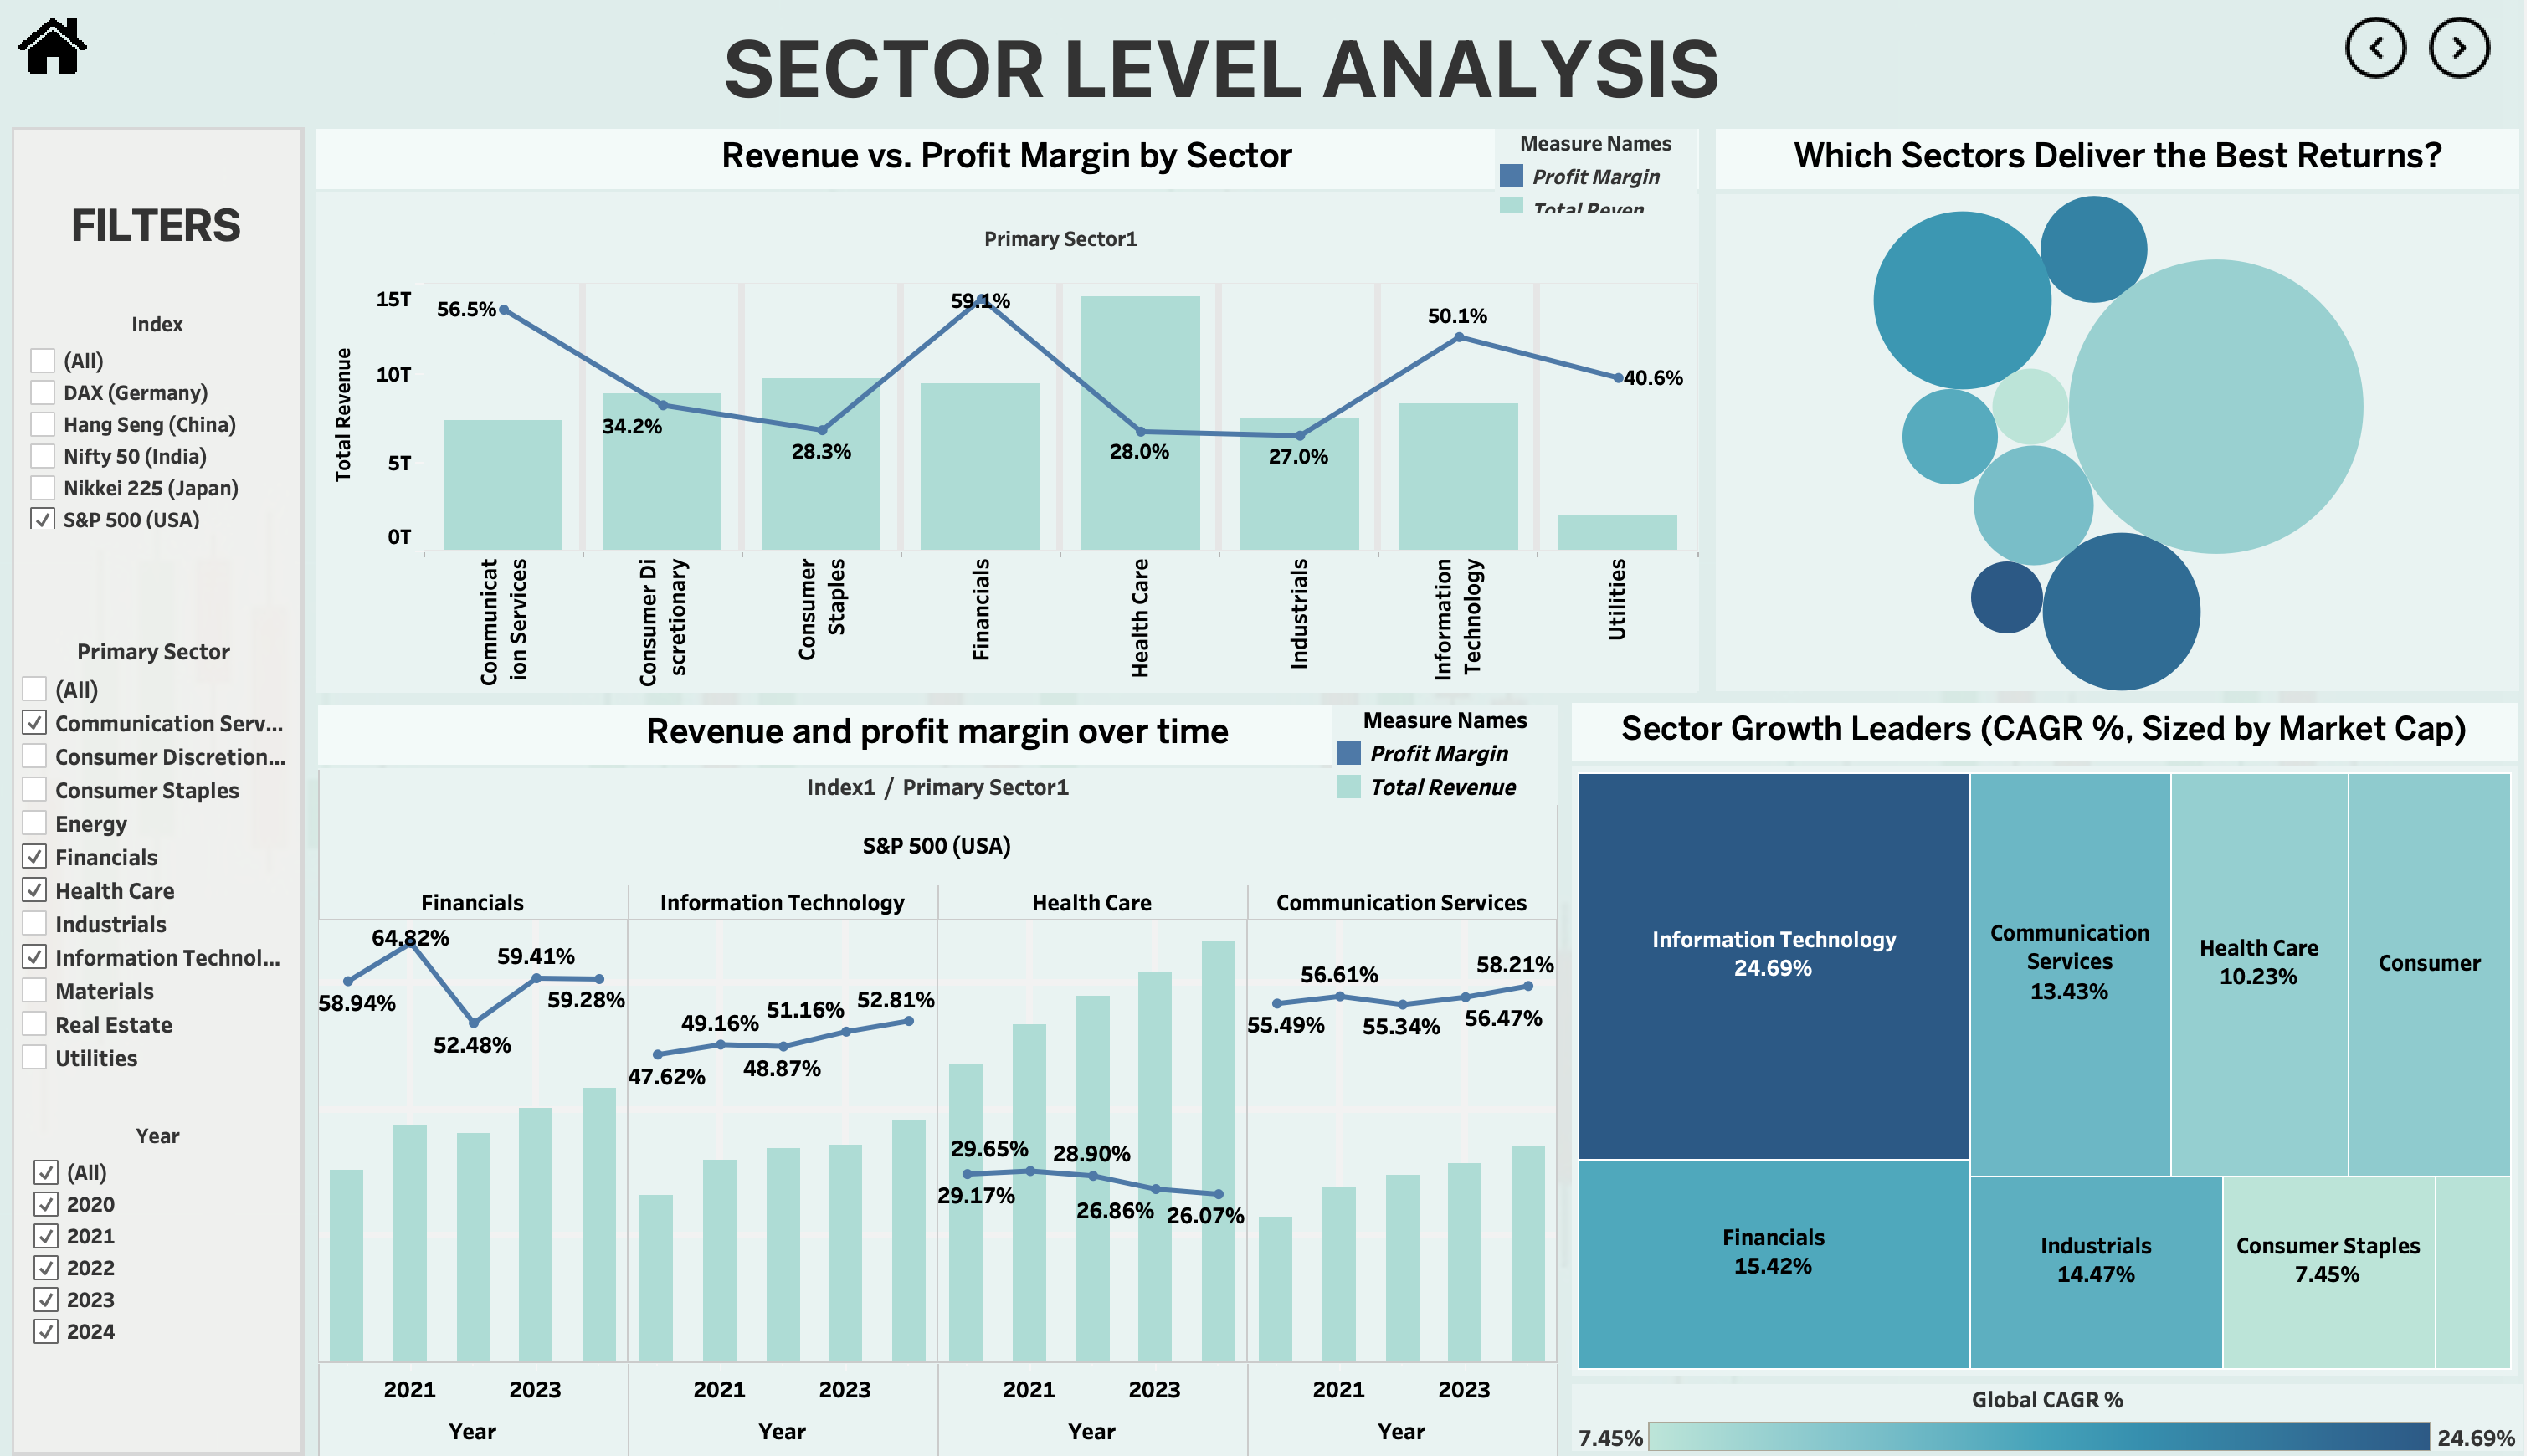

The dashboard page shown, as its layout file describes it:
{"tool":"tableau","page":{"name":"Sector Level Analysis","canvas":[1000,1000],"units":"permille","ordinal":4},"visuals":[{"type":"dashboard-object","box":[3.9,7.5,33.4,46.8]},{"type":"dashboard-object","box":[925.4,7.5,27.3,48.3]},{"type":"dashboard-object","box":[955.4,9.1,32.9,46.8]},{"type":"worksheet","title":"Sector Info","mark":"Automatic","box":[44.1,11.3,877.9,70.9]},{"type":"worksheet","title":"box (2)","mark":"Automatic","box":[4.6,86.7,116.1,908.8]},{"type":"legend","title":"Revenue vs. Profit Margin by Sector (2020–2024)","param":"[federated.0pgchlx1p5gws61gtvl2m0kqny3y].[:Measure Names]","box":[590.9,87.5,79.8,57.3]},{"type":"worksheet","title":"Revenue vs. Profit Margin by Sector (2020–2024)","mark":"Automatic","rows":["Total Revenue","Calculation_652459001683488768"],"cols":["Primary Sector"],"box":[124.9,88.2,546.6,384.6]},{"type":"worksheet","title":"Which sector deliver the best returns","mark":"Circle","box":[677.7,88.2,317.8,383.9]},{"type":"worksheet","title":"FILTERS","mark":"Automatic","box":[7.2,132.7,110.6,40.7]},{"type":"filter","title":"Revenue vs. Profit Margin by Sector (2020–2024)","param":"[federated.0pgchlx1p5gws61gtvl2m0kqny3y].[none:Index:nk]","box":[7.6,211.9,108.8,150.1]},{"type":"filter","title":"Over time revenue and profit margin","param":"[federated.0pgchlx1p5gws61gtvl2m0kqny3y].[none:Primary Sector:nk]","box":[4.9,433.8,112.8,310.9]},{"type":"worksheet","title":"Sector Growth Leaders (CAGR %, Sized by Market Cap)","mark":"Square","box":[621.3,480.4,373.8,459.3]},{"type":"legend","title":"Over time revenue and profit margin","param":"[federated.0pgchlx1p5gws61gtvl2m0kqny3y].[:Measure Names]","box":[526.7,481.1,89.1,68.1]},{"type":"worksheet","title":"Over time revenue and profit margin","mark":"Automatic","rows":["Total Revenue","Calculation_652459001683488768"],"cols":["Index","Primary Sector","Year"],"box":[125.7,481.2,490.1,515.1]},{"type":"filter","title":"Revenue vs. Profit Margin by Sector (2020–2024)","param":"[federated.0pgchlx1p5gws61gtvl2m0kqny3y].[yr:Year:ok]","box":[9.4,765.5,106.5,192.3]},{"type":"legend","title":"Sector Growth Leaders (CAGR %, Sized by Market Cap)","param":"[federated.0pgchlx1p5gws61gtvl2m0kqny3y].[usr:Calculation_174936699392819209:qk]","box":[620.9,945.7,376,45.2]}]}

Visuals, with their boxes on the dashboard's canvas, which has no fixed pixel size, in thousandths of its width and height (x1, y1, x2, y2). These are canvas units, not pixel positions in the 2531x1456 screenshot, which may show the page scaled, cropped or inside an application window:
dashboard-object: Rect(4, 8, 37, 54)
dashboard-object: Rect(925, 8, 953, 56)
dashboard-object: Rect(955, 9, 988, 56)
"Sector Info" worksheet: Rect(44, 11, 922, 82)
"box (2)" worksheet: Rect(5, 87, 121, 996)
"Revenue vs. Profit Margin by Sector (2020–2024)" legend: Rect(591, 88, 671, 145)
"Revenue vs. Profit Margin by Sector (2020–2024)" worksheet: Rect(125, 88, 672, 473)
"Which sector deliver the best returns" worksheet (Circle marks): Rect(678, 88, 996, 472)
"FILTERS" worksheet: Rect(7, 133, 118, 173)
"Revenue vs. Profit Margin by Sector (2020–2024)" filter: Rect(8, 212, 116, 362)
"Over time revenue and profit margin" filter: Rect(5, 434, 118, 745)
"Sector Growth Leaders (CAGR %, Sized by Market Cap)" worksheet (Square marks): Rect(621, 480, 995, 940)
"Over time revenue and profit margin" legend: Rect(527, 481, 616, 549)
"Over time revenue and profit margin" worksheet: Rect(126, 481, 616, 996)
"Revenue vs. Profit Margin by Sector (2020–2024)" filter: Rect(9, 766, 116, 958)
"Sector Growth Leaders (CAGR %, Sized by Market Cap)" legend: Rect(621, 946, 997, 991)
